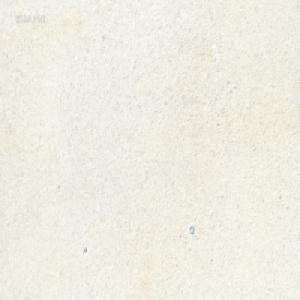Washer: (189, 225, 194, 234)
